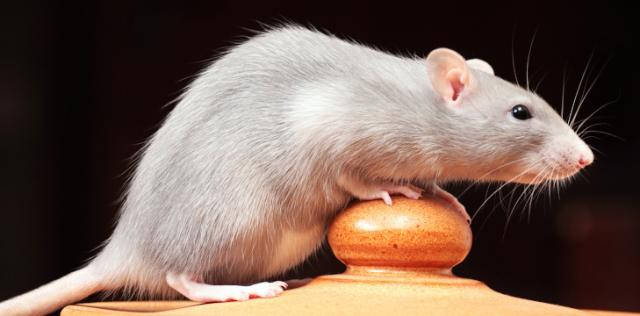rat: (74, 12, 602, 304)
